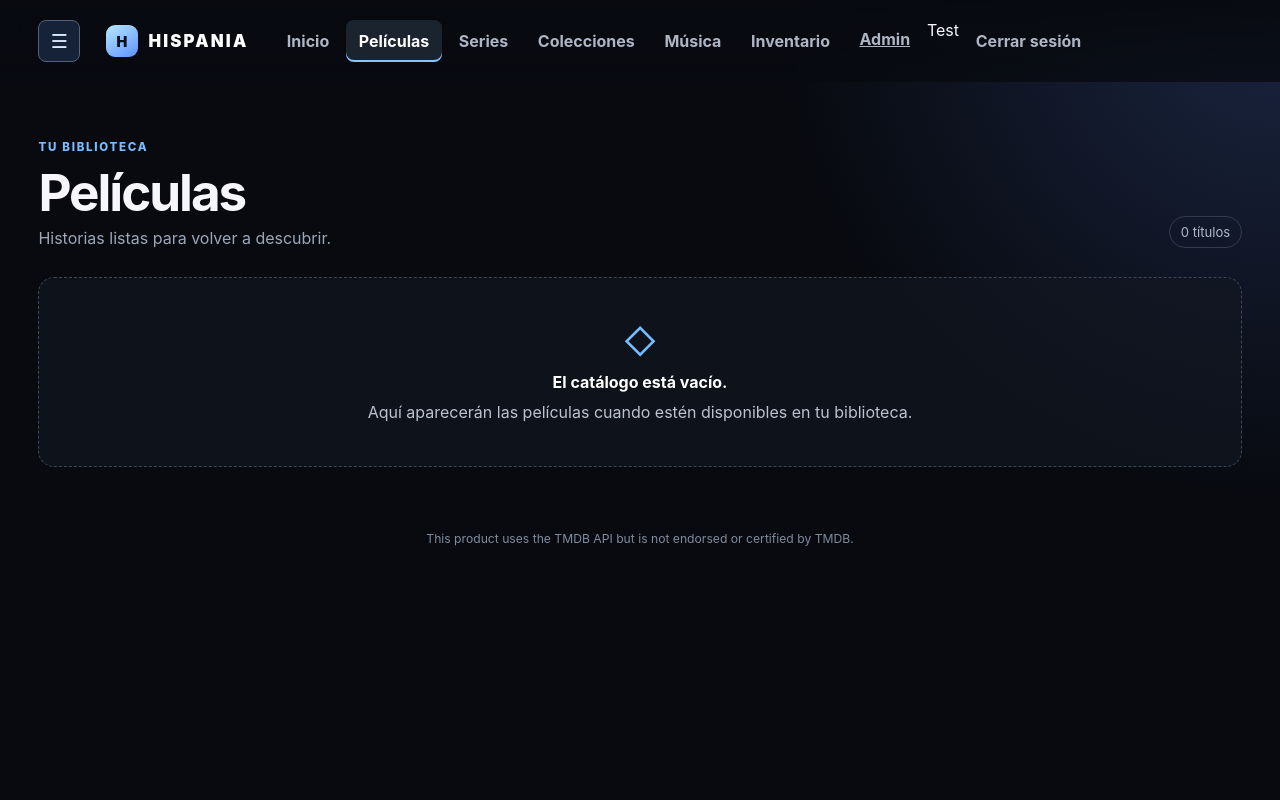
Test: App › navigates real sections from the drawer and keeps unavailable sections honest
Expected: the navigation bar named "Navegación principal" is shown, left=274, top=20, right=1094, bottom=62
Click the button named "Abrir menú": {"x": 59, "y": 41} left=38, top=20, right=80, bottom=62
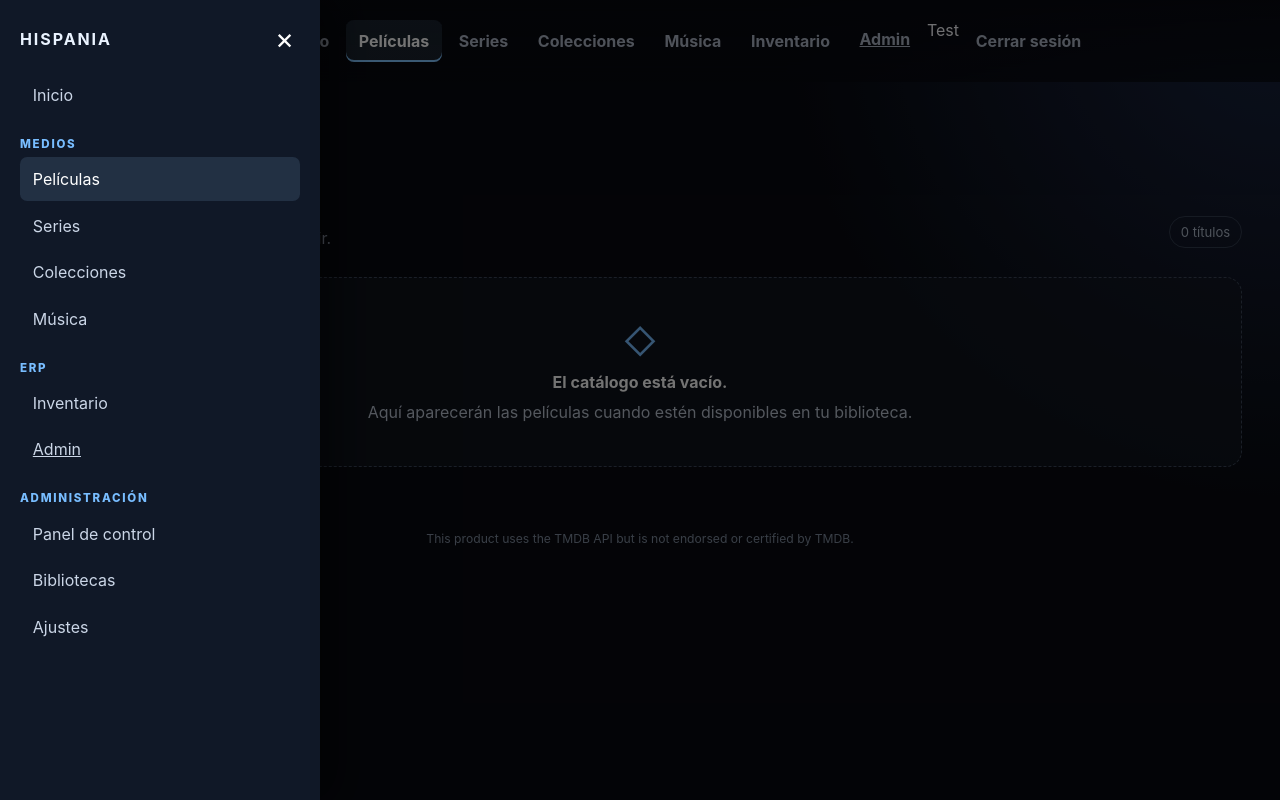
Click the button "Series": {"x": 57, "y": 226} left=20, top=204, right=300, bottom=248
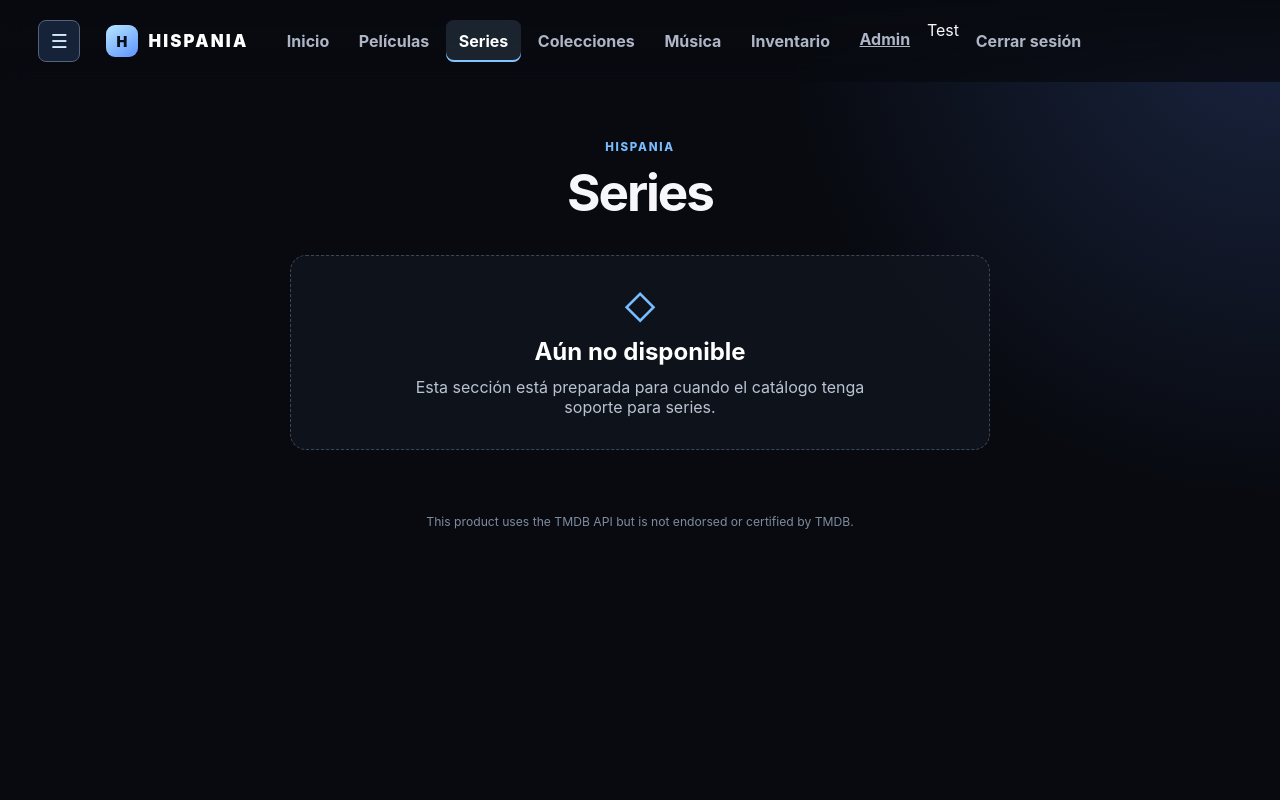
Expected: the heading "Series" is shown, left=567, top=161, right=713, bottom=223
Expected: the heading "Aún no disponible" is shown, left=534, top=337, right=746, bottom=366
